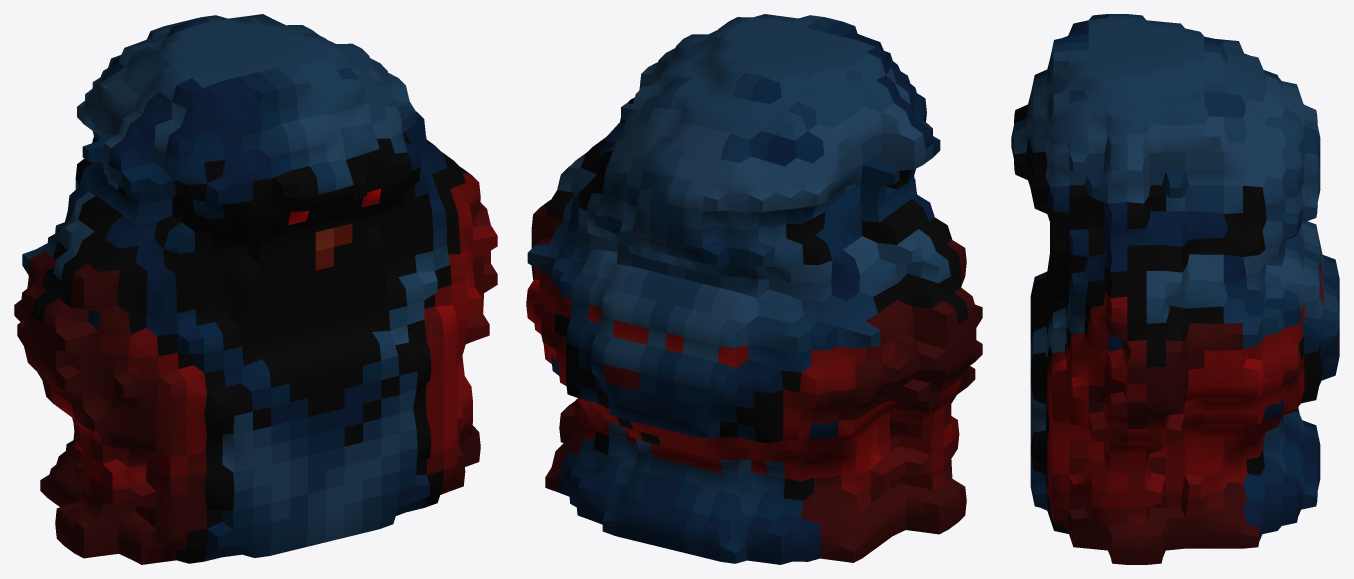
File: Icon_709_01.obj
3 views of the same model, side by side, from view 1: azimuth 30°, elevation 25°; view 2: azimuth 150°, elevation 25°; view 3: azimuth 270°, elevation 25° (orthographic). The views are drawn at different scales.
Bounding box in the file's own units: 2.4 × 2.4 × 1.7.
1 material, 1 textured.
